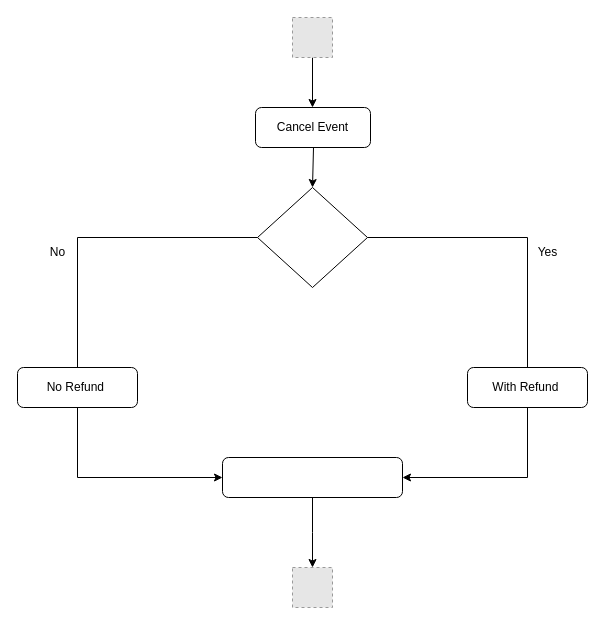
This 605x625 diagram has some shape labels left out. Grey dashed boxes stand in for pictures. The centre of each missing label's shape, as x and y in pixels:
Package Booked Successfully: the point at 312,477
Prior 15 days?: the point at 312,237
